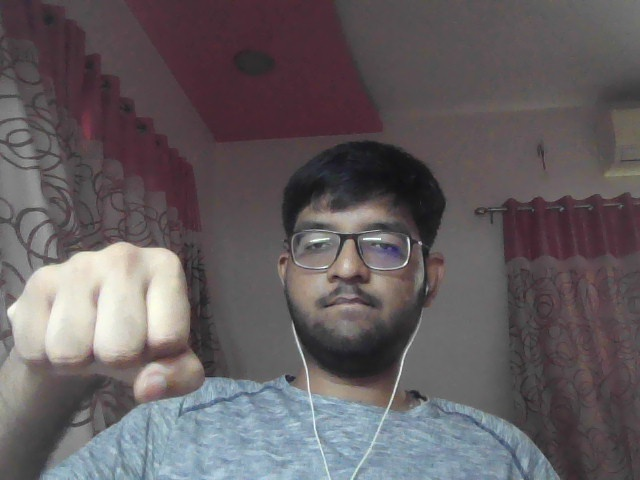હા: (6, 235, 218, 402)
